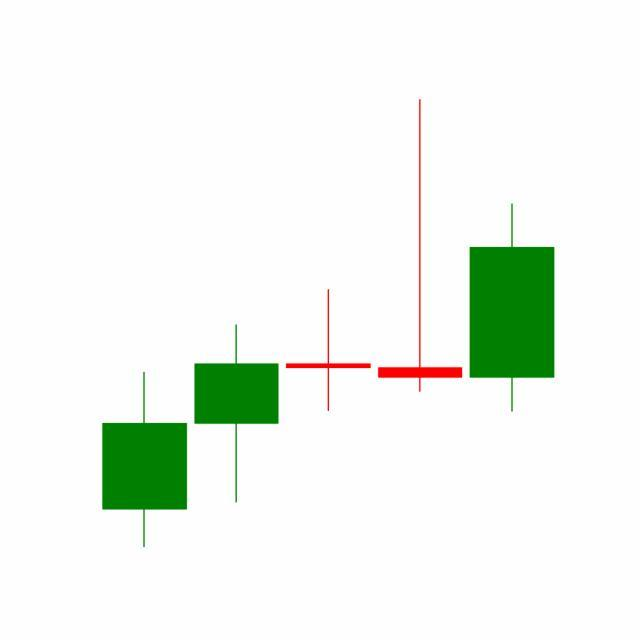Gravestone Doji: (374, 96, 468, 396)
